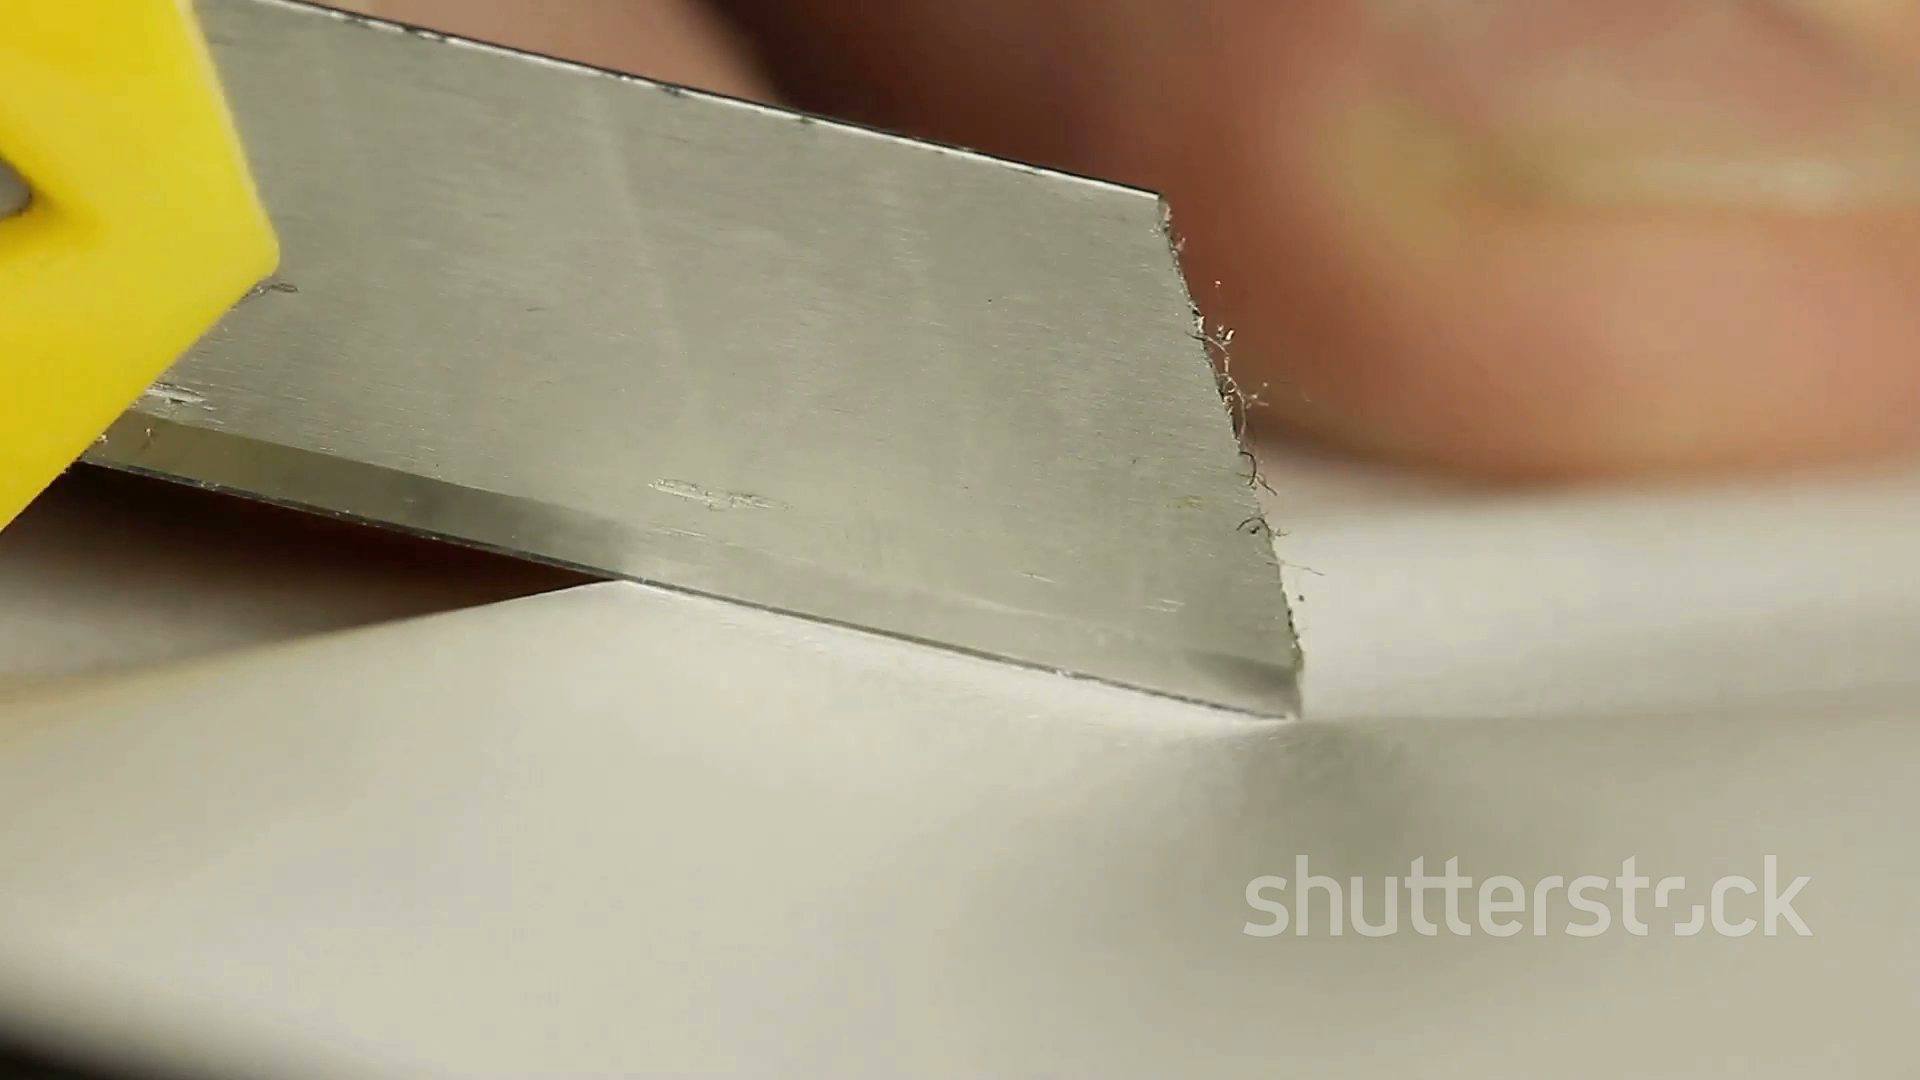cortante: (80, 0, 1296, 719)
